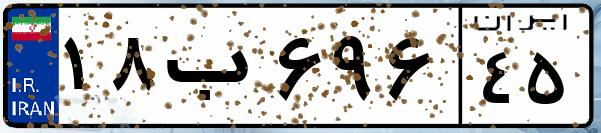1: (57, 26, 110, 100)
4: (475, 38, 525, 113)
5: (525, 38, 570, 115)
6: (270, 28, 330, 110), (385, 28, 445, 110)
8: (110, 28, 158, 98)
9: (330, 28, 385, 110)
ب: (158, 20, 270, 120)
